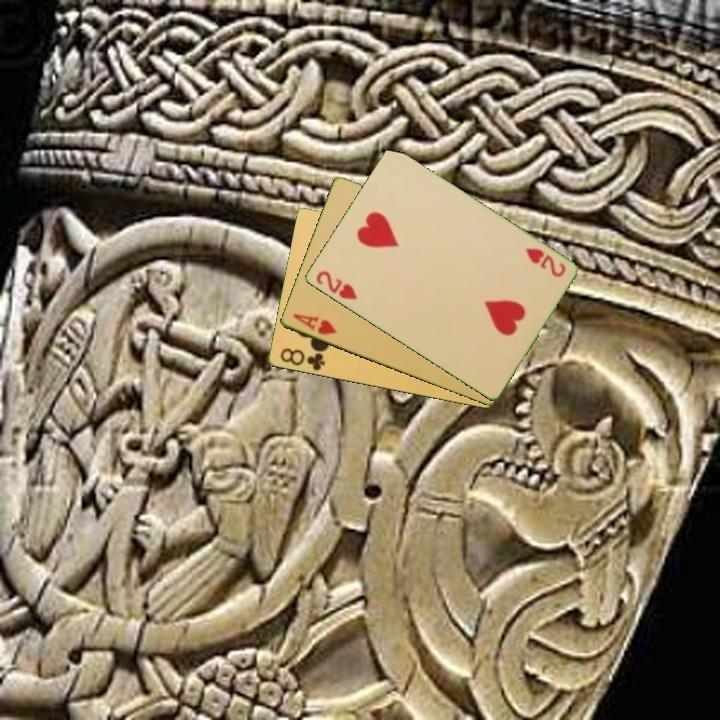2h: (312, 267, 360, 303), (522, 244, 568, 280)
8c: (276, 345, 328, 374)
Ah: (289, 310, 340, 338)
